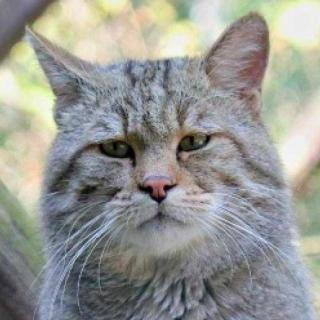cat: (22, 19, 273, 276)
nose: (138, 164, 180, 206)
